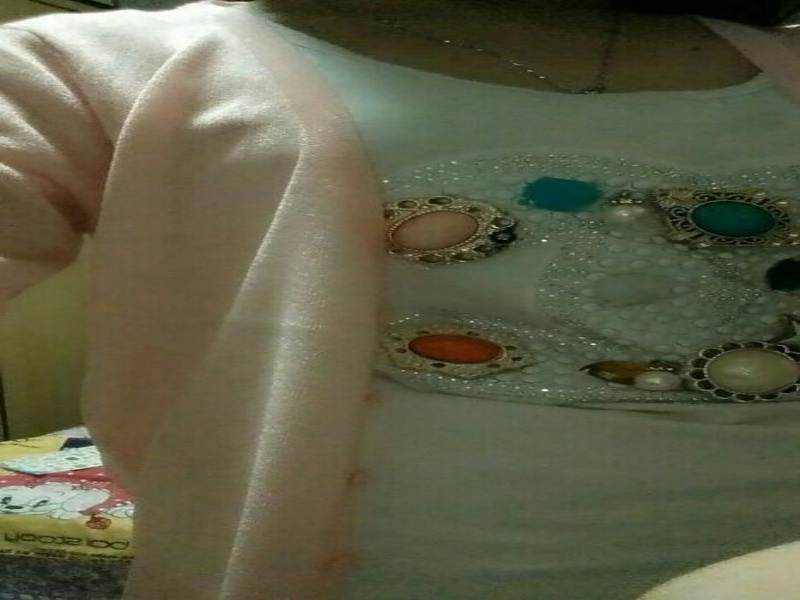long_sleeved_outwear: (0, 0, 795, 599)
